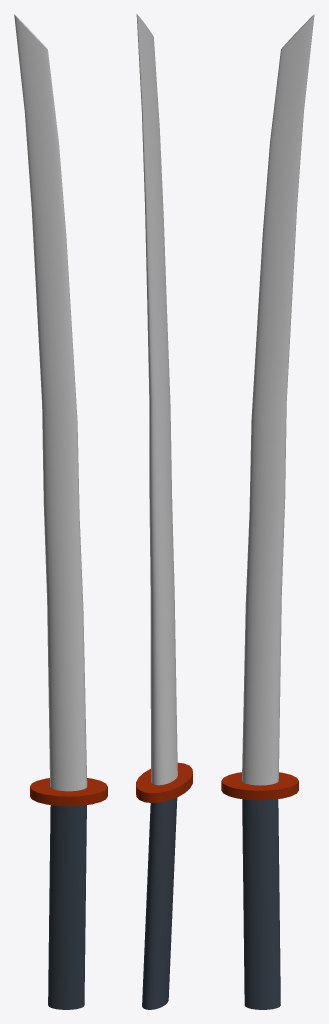
The model's file is Katana.fbx.
3 views of the same model, side by side, from view 1: azimuth 90°, elevation 25°; view 2: azimuth 150°, elevation 25°; view 3: azimuth 270°, elevation 25° (orthographic). The views are drawn at different scales.
Parts seen in each view (by area): view 1: pCylinder8; view 2: pCylinder8; view 3: pCylinder8.
Part boxes in pixels (left/top/right/bottom): pCylinder8: left=14, top=14, right=107, bottom=1009; pCylinder8: left=136, top=14, right=192, bottom=1009; pCylinder8: left=221, top=14, right=314, bottom=1009.
Bounding box in the file's own units: 4.02 × 93.33 × 7.97.
